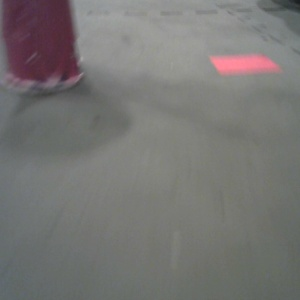middle: (22, 1, 99, 53)
